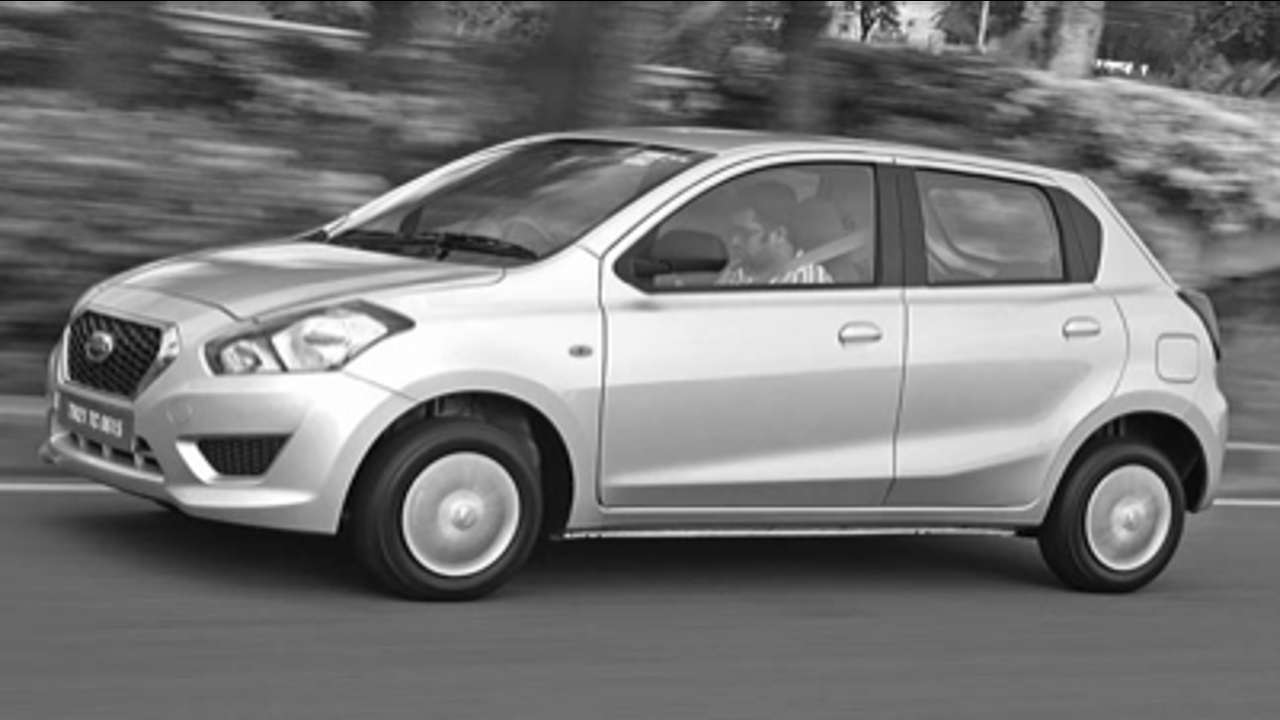license: (54, 384, 138, 455)
